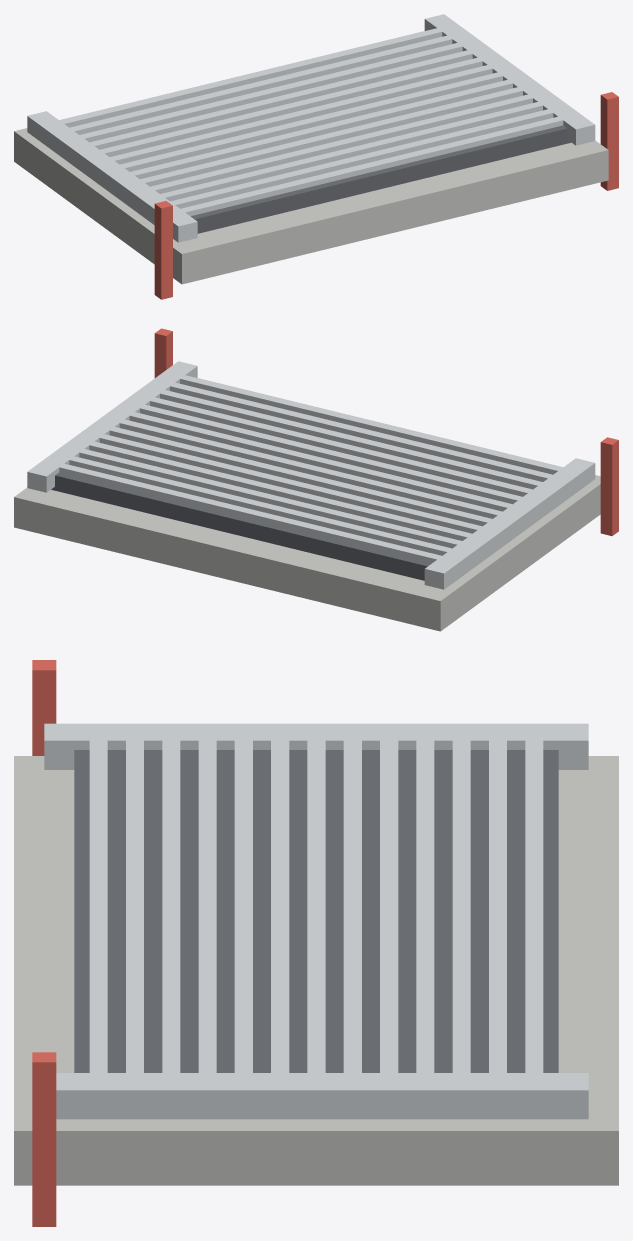
File: radio-telescope-array-and-field-station-cattle-grid-c9451210__37652.glb
3 renders of one model, top to bottom at view 1: azimuth 30°, elevation 25°; view 2: azimuth 150°, elevation 25°; view 3: azimuth 270°, elevation 25°, orthographic. The views are drawn at different scales.
Visible parts, largest first — view 1: cattle-grid; view 2: cattle-grid; view 3: cattle-grid.
Part boxes in pixels (x1,y1,x2,y2): cattle-grid: (14, 14, 618, 299); cattle-grid: (14, 328, 618, 631); cattle-grid: (14, 660, 618, 1226).
Size of the model in its own units: 4.72 by 0.9 by 3.
